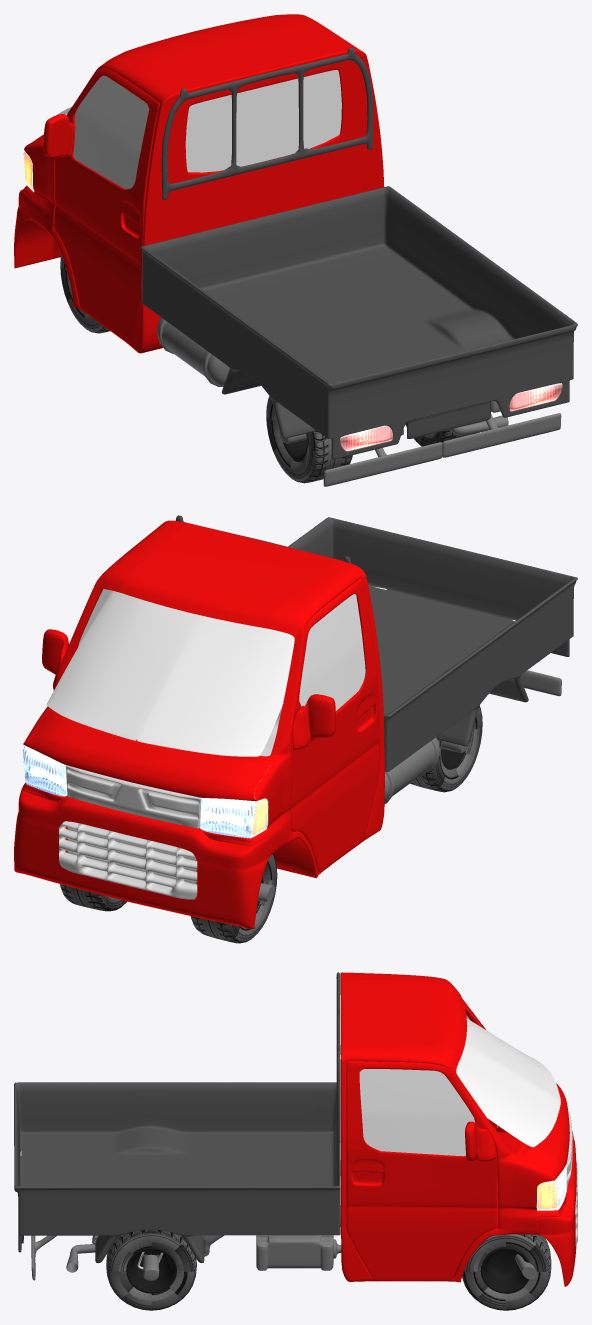
Rendered from mini-truck.glb.
3 views of the same model, one above another, from view 1: azimuth 30°, elevation 25°; view 2: azimuth 150°, elevation 25°; view 3: azimuth 270°, elevation 25° (orthographic). The views are drawn at different scales.
Visible parts, largest first — view 1: Cargo box_5, boby chaisses_3, doors_10, rare windshield_50, door's windshield .001_9, rare windshield grill_51, Chaisses_6, Circle.062_62, front bumper_40, Air brake cylinder_0, tail light_53, orvm_46 (+1 smaller); view 2: Cargo box_5, wind shield_54, boby chaisses_3, front bumper_40, doors_10, grill_41, bonut_4, door's windshield .001_9, head light_42, orvm_46, Circle.062_62, Circle.011_65 (+5 smaller); view 3: Cargo box_5, doors.002_11, boby chaisses_3, door's windshield _8, wind shield_54, Circle.022_59, Circle.019_56, Battery_2, front bumper_40, bonut_4, Circle.021_57, Circle.032_60 (+7 smaller).
Part boxes in pixels (x1,y1,x2,y2): Cargo box_5: (140, 186, 577, 459); boby chaisses_3: (23, 14, 384, 353); doors_10: (54, 67, 159, 340); rare windshield_50: (185, 70, 341, 172); door's windshield .001_9: (73, 75, 149, 189); rare windshield grill_51: (161, 47, 373, 199); Chaisses_6: (323, 401, 561, 486); Circle.062_62: (266, 396, 352, 483); front bumper_40: (14, 189, 61, 268); Air brake cylinder_0: (157, 317, 229, 386); tail light_53: (340, 383, 562, 451); orvm_46: (43, 114, 73, 157); Cargo box_5: (288, 517, 577, 771); wind shield_54: (46, 590, 294, 756); boby chaisses_3: (22, 520, 385, 878); front bumper_40: (14, 788, 270, 928); doors_10: (290, 578, 380, 872); grill_41: (59, 765, 201, 899); bonut_4: (23, 707, 274, 801); door's windshield .001_9: (299, 594, 365, 710); head light_42: (23, 745, 268, 838); orvm_46: (292, 694, 335, 749); Circle.062_62: (410, 706, 482, 792); Circle.011_65: (190, 854, 277, 943); Cargo box_5: (14, 1082, 340, 1263); doors.002_11: (346, 1061, 497, 1280); boby chaisses_3: (340, 972, 566, 1282); door's windshield _8: (359, 1069, 475, 1156); wind shield_54: (456, 1018, 560, 1147); Circle.022_59: (106, 1229, 196, 1310); Circle.019_56: (462, 1234, 551, 1310); Battery_2: (256, 1235, 333, 1270); front bumper_40: (537, 1131, 576, 1286); bonut_4: (515, 1083, 569, 1180); Circle.021_57: (480, 1247, 529, 1293); Circle.032_60: (126, 1247, 176, 1293).
Bounding box in the file's own units: 2.42 × 2.49 × 4.71.
Materials: 37 (1 with a texture image).
